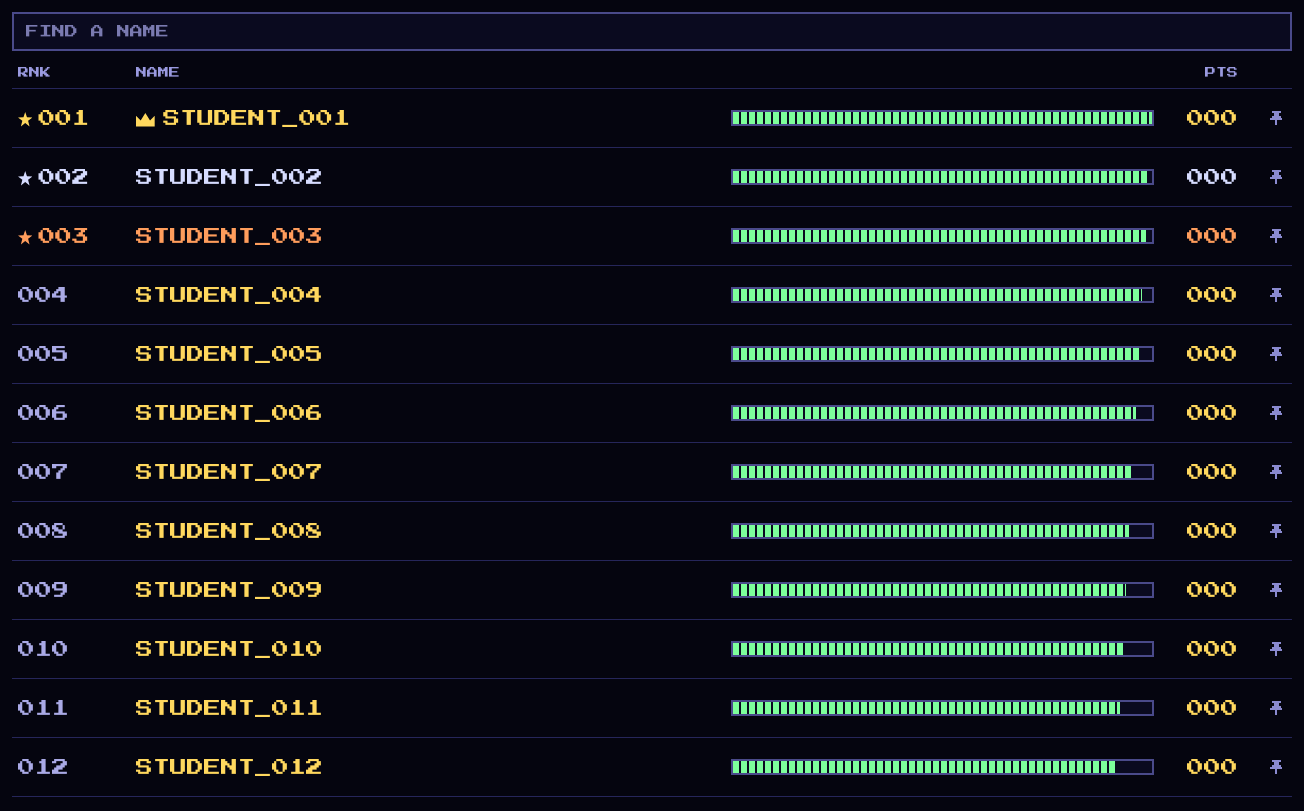
Scenario: Board with 130 students › finds a student who is not on the visible page
Type "student_127" into the search field labelled "FIND A NAME" at (652, 32), box [12,12,1292,51]
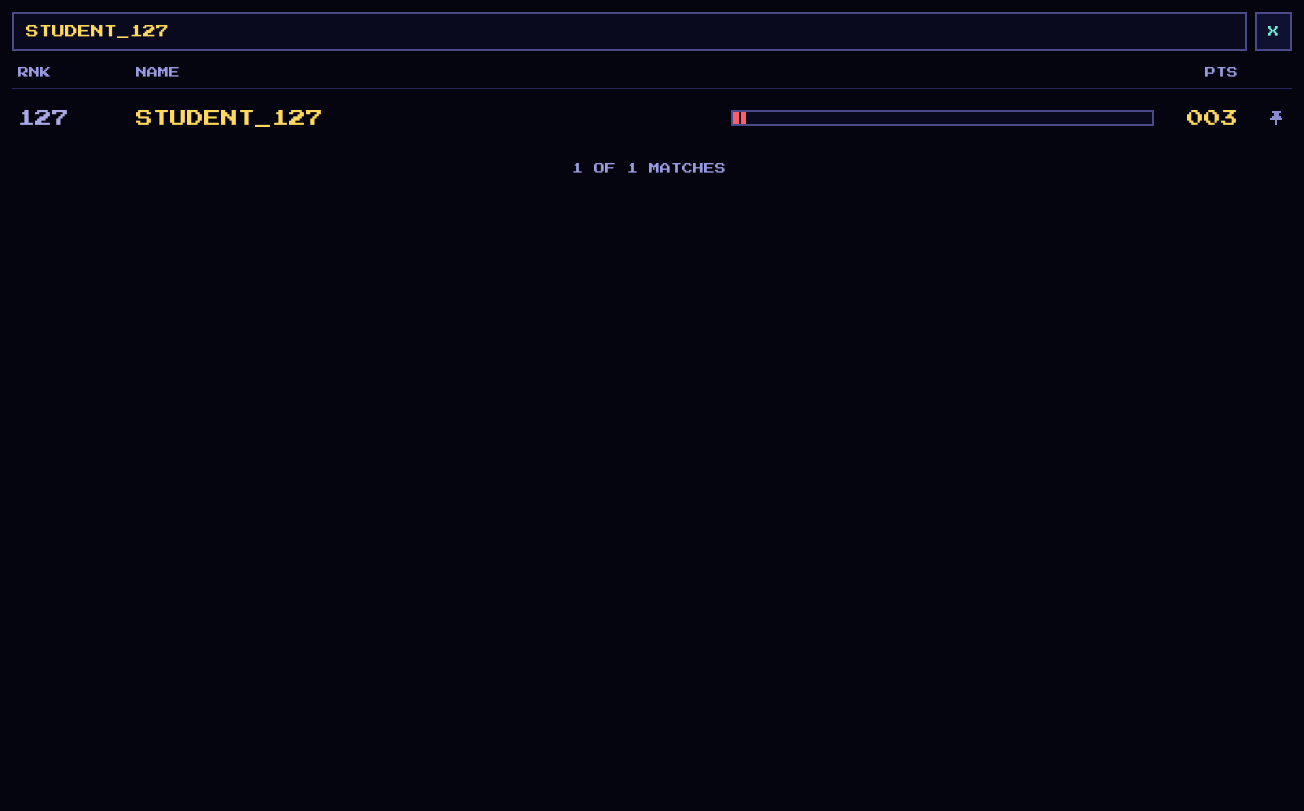
Expected: the text "student_127" is shown, [130,88,725,147]
Expected: the text "1 OF 1 MATCHES" is shown, [572,163,726,174]
